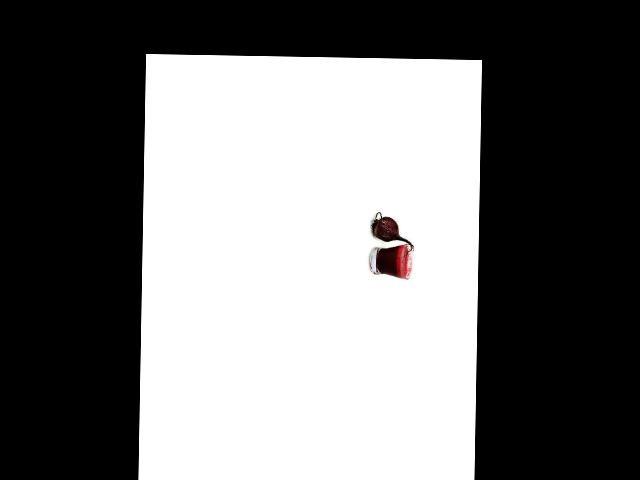beet: (370, 212, 414, 257)
